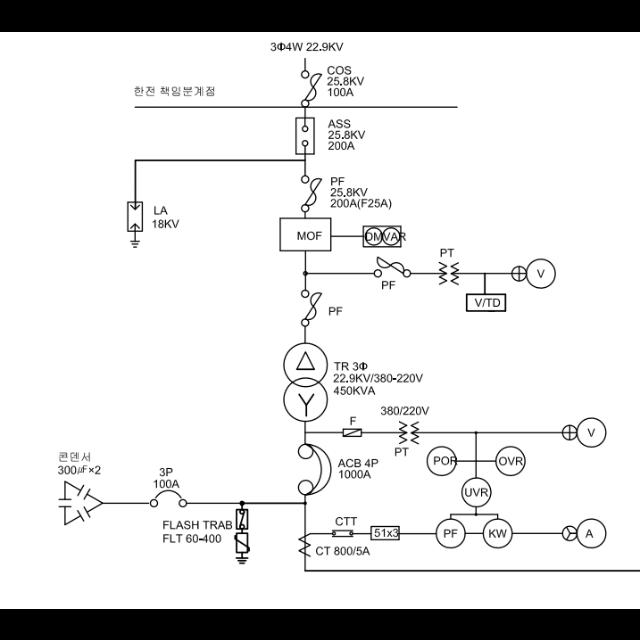A: (578, 518, 606, 548)
ACB: (298, 443, 332, 495)
AS: (563, 524, 577, 540)
CB: (296, 117, 314, 153)
CT: (298, 532, 312, 556)
GND: (235, 557, 249, 565), (130, 238, 140, 248)
LA: (128, 202, 142, 230)
MCCB: (150, 489, 186, 507)
MOF: (280, 216, 330, 250)
PF: (300, 174, 322, 212), (300, 288, 322, 326), (374, 255, 410, 277), (302, 70, 322, 106), (343, 428, 361, 437)
PT: (439, 260, 459, 284), (399, 421, 418, 444)
SC: (58, 480, 102, 524)
TR: (284, 342, 328, 422)
V: (526, 258, 556, 288), (578, 416, 606, 446)
VS: (512, 265, 526, 281), (562, 424, 576, 440)
